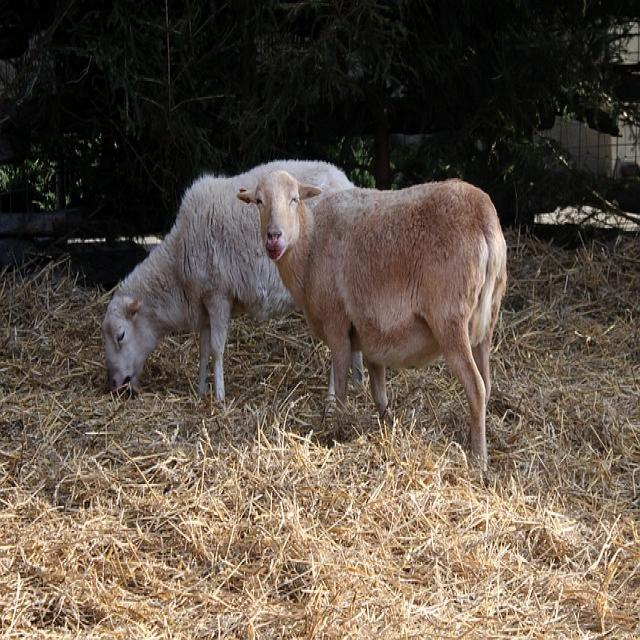goat: (240, 171, 506, 464), (102, 160, 353, 400)
